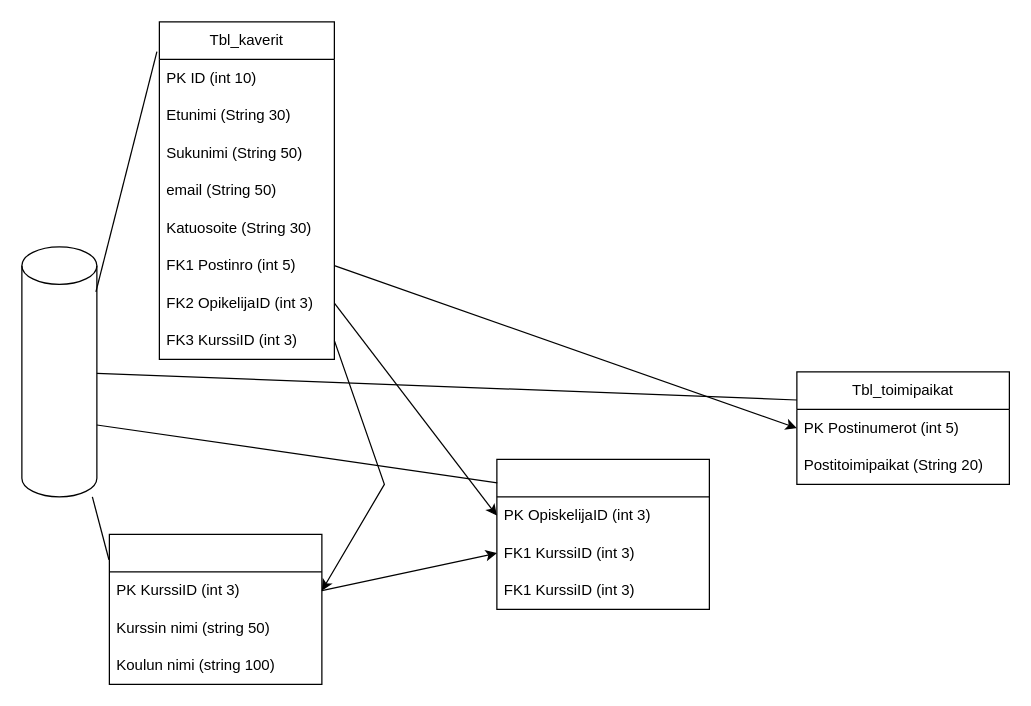
This 1031x706 diagram has some shape labels left out. The box of each missing label's shape, as (x1, y1, x2, y2) in pixels:
Tbl_Kurssit: (108, 533, 322, 684)
Tbl_Opiskelijat: (496, 458, 709, 609)
